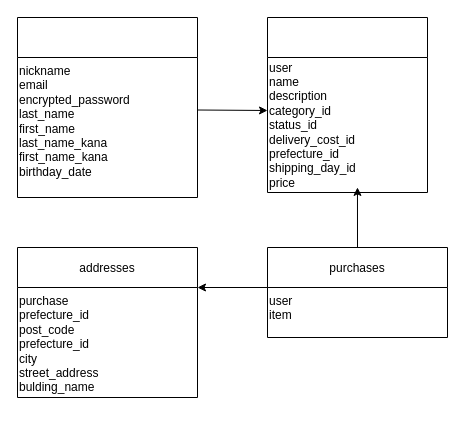
The diagram is 465 pixels wide and 442 high, and some of its shapes have lost their labels. The box of each missing label's shape, as (x1, y1, x2, y2) in pixels:
items: (266, 16, 428, 192)
users: (16, 16, 198, 198)
